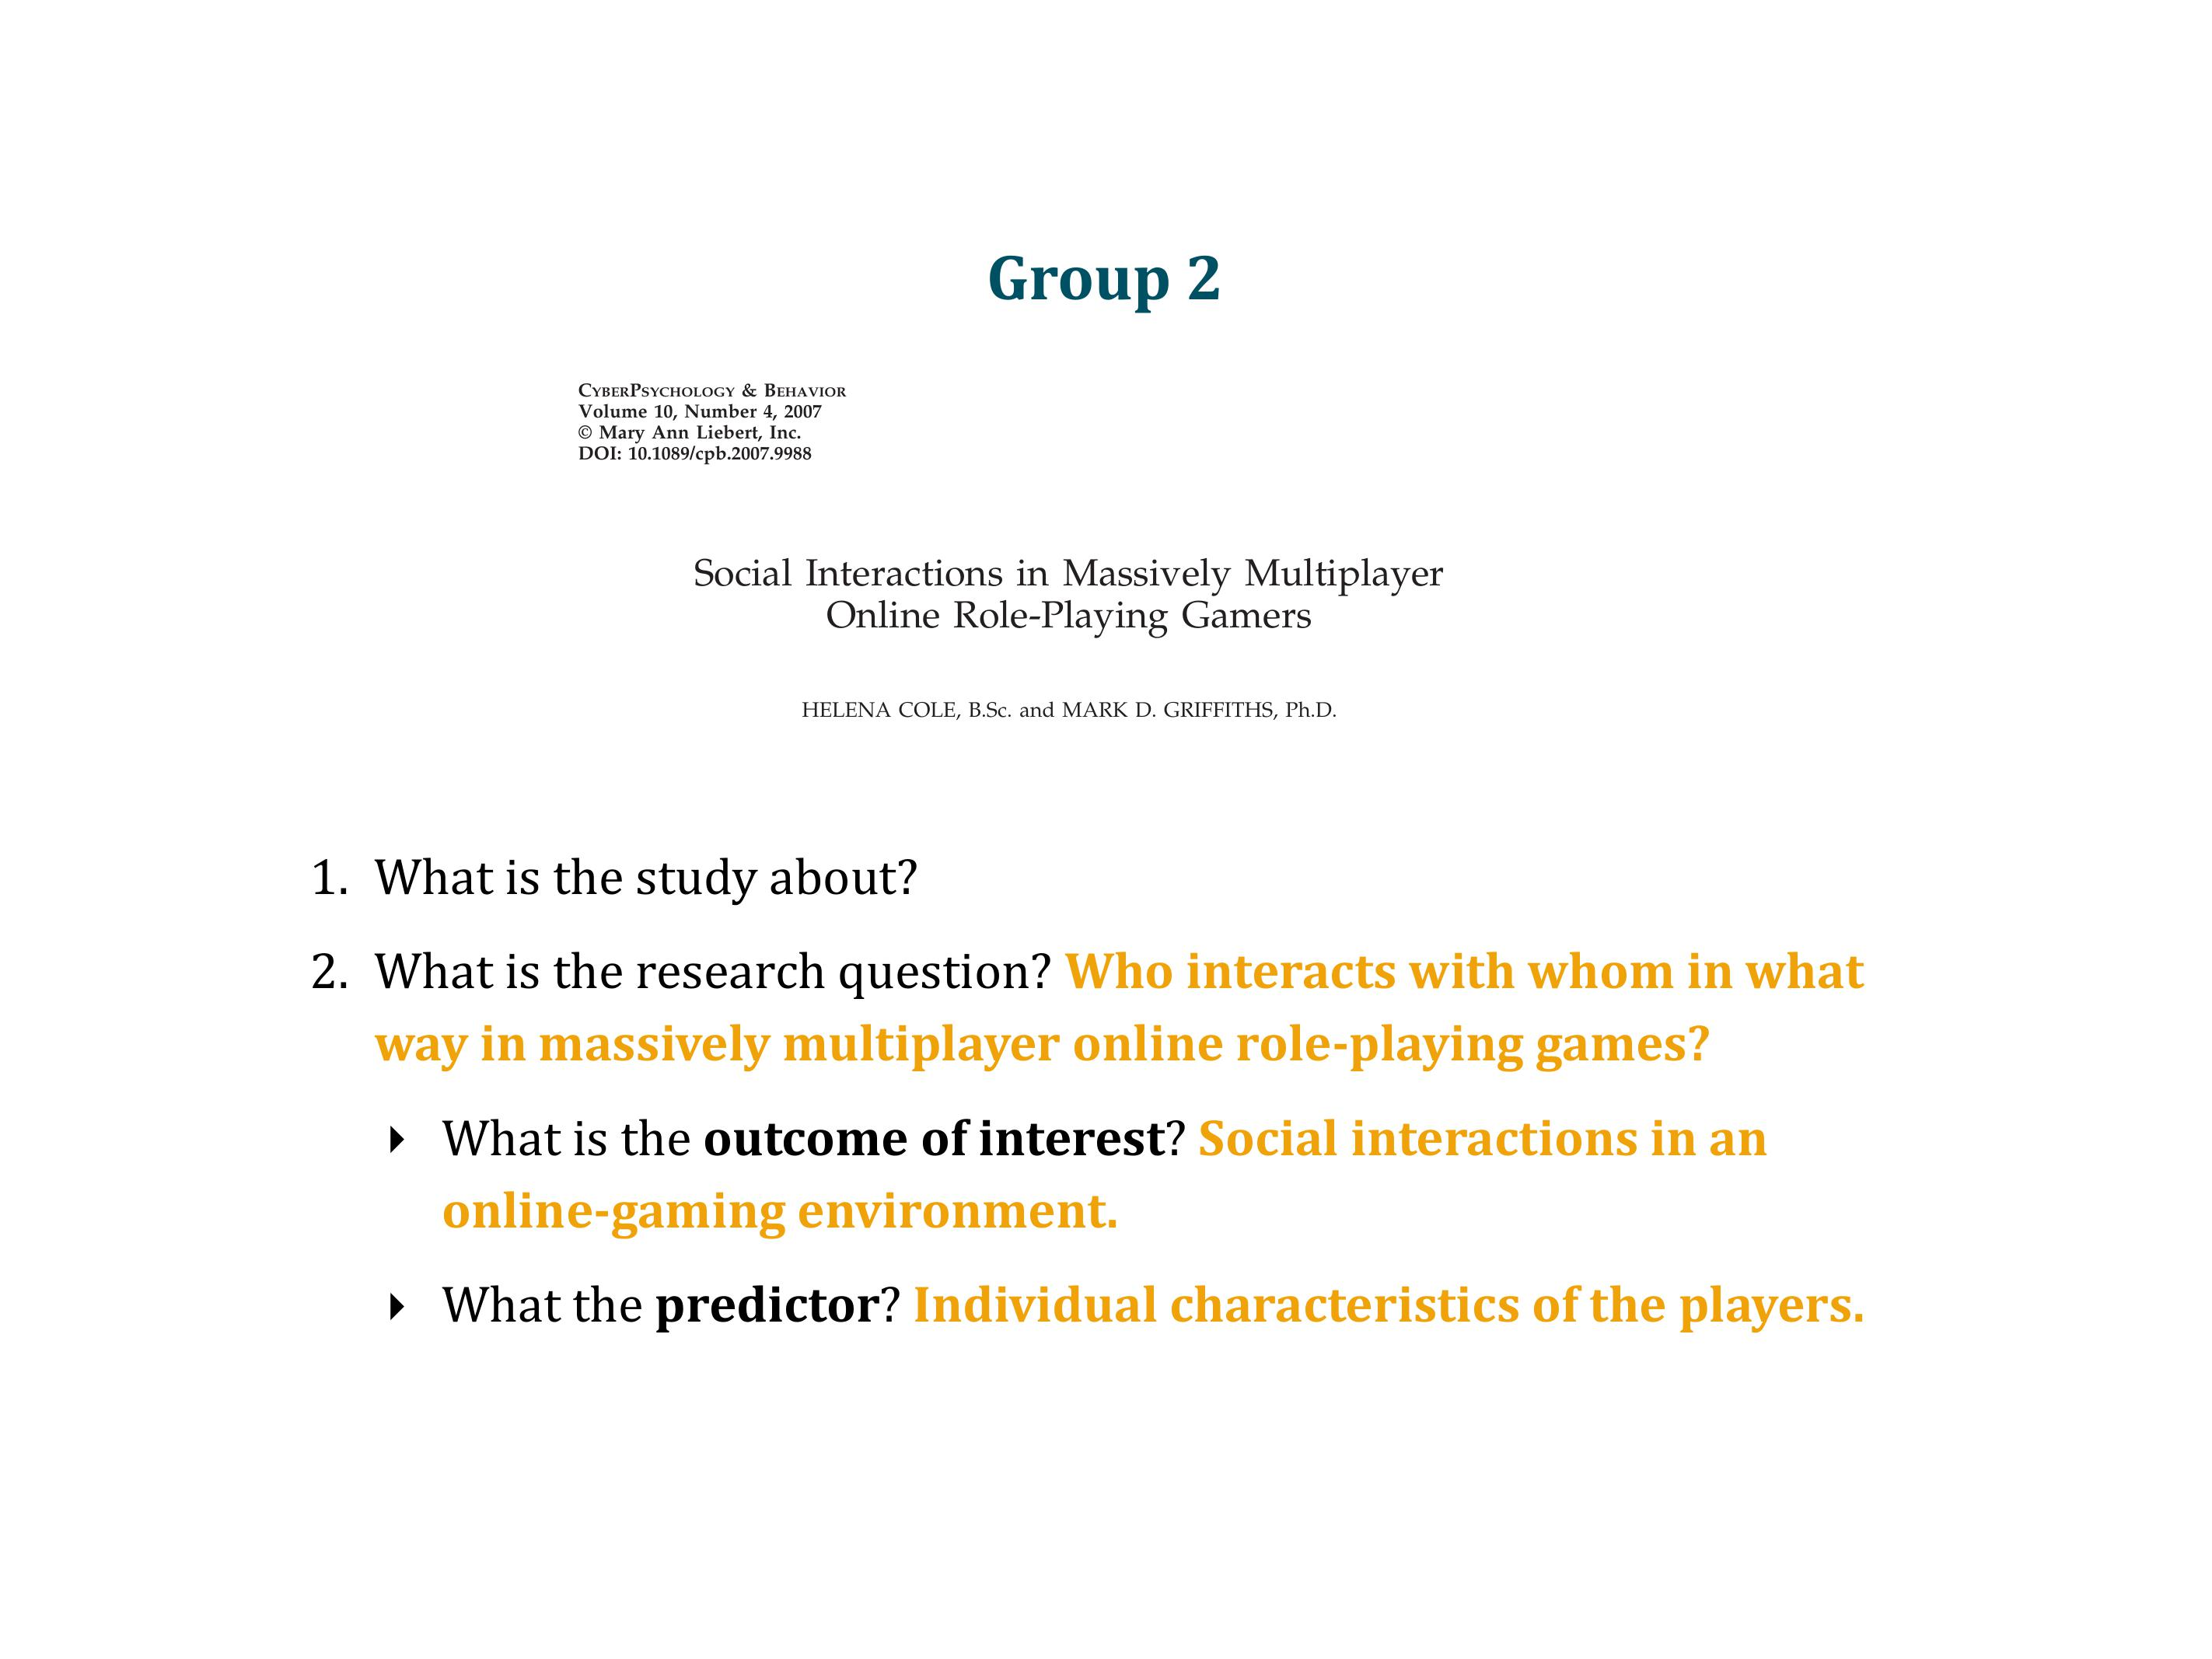Title: (959, 242, 1236, 319)
